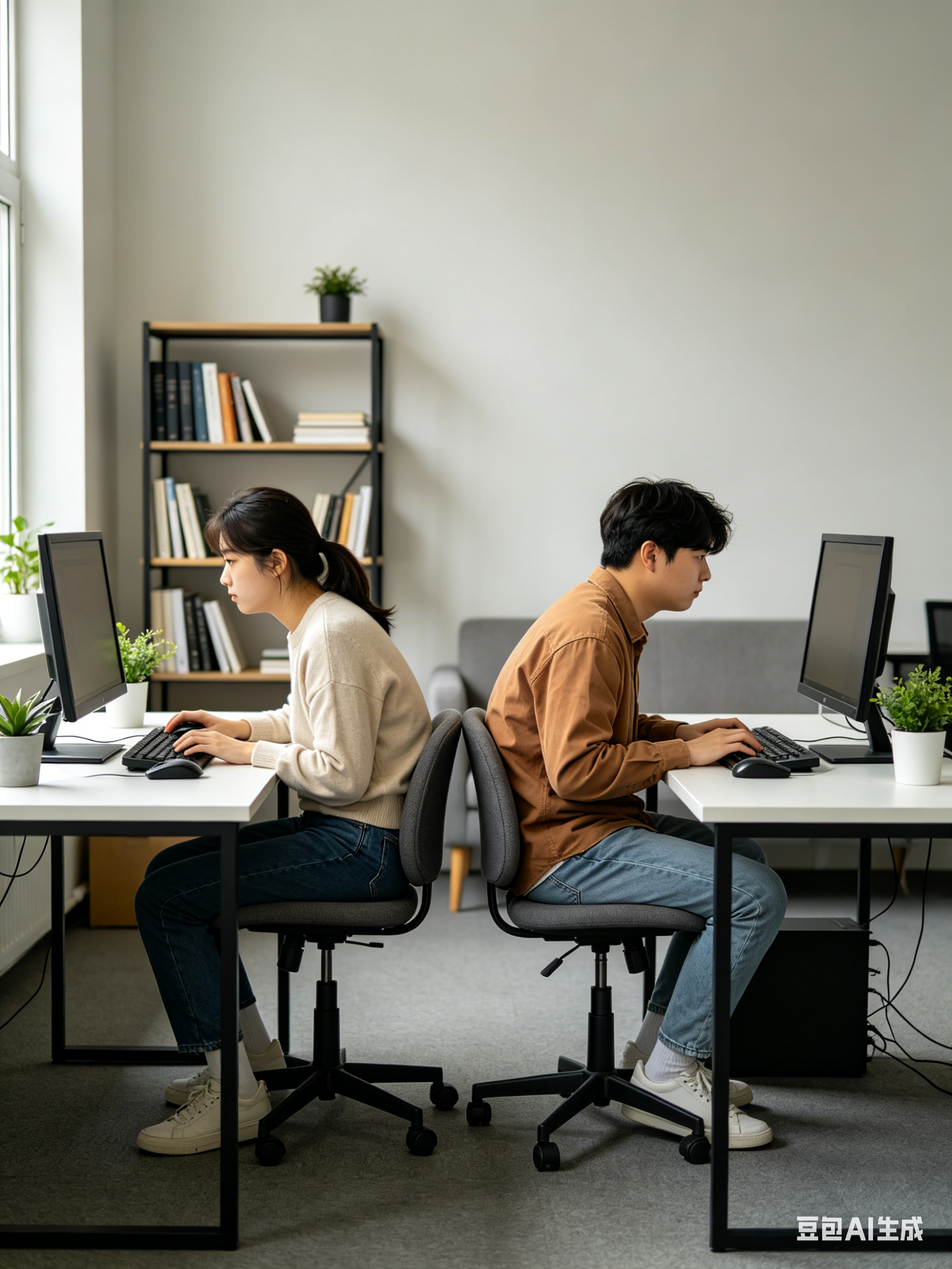sitting_bad: (122, 443, 463, 946), (489, 468, 814, 972)
